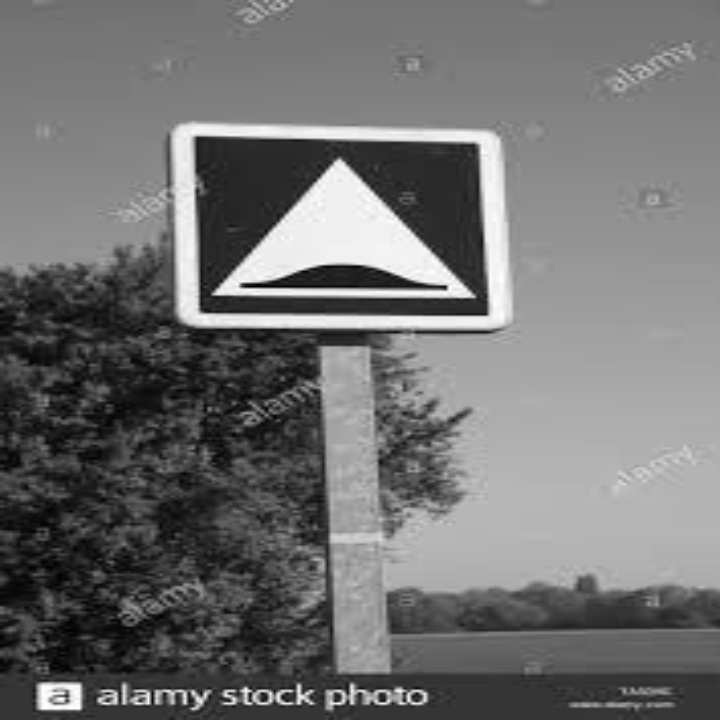bump: (254, 249, 449, 305)
